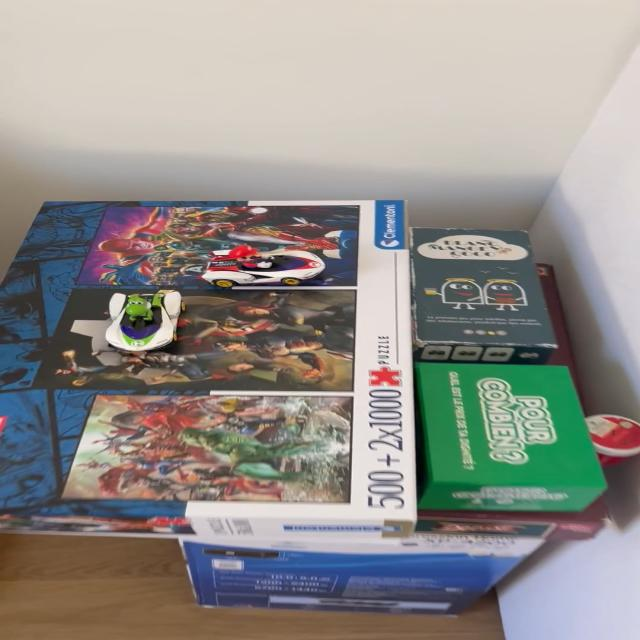mario: (195, 243, 332, 293)
yoshi: (100, 285, 190, 356)
